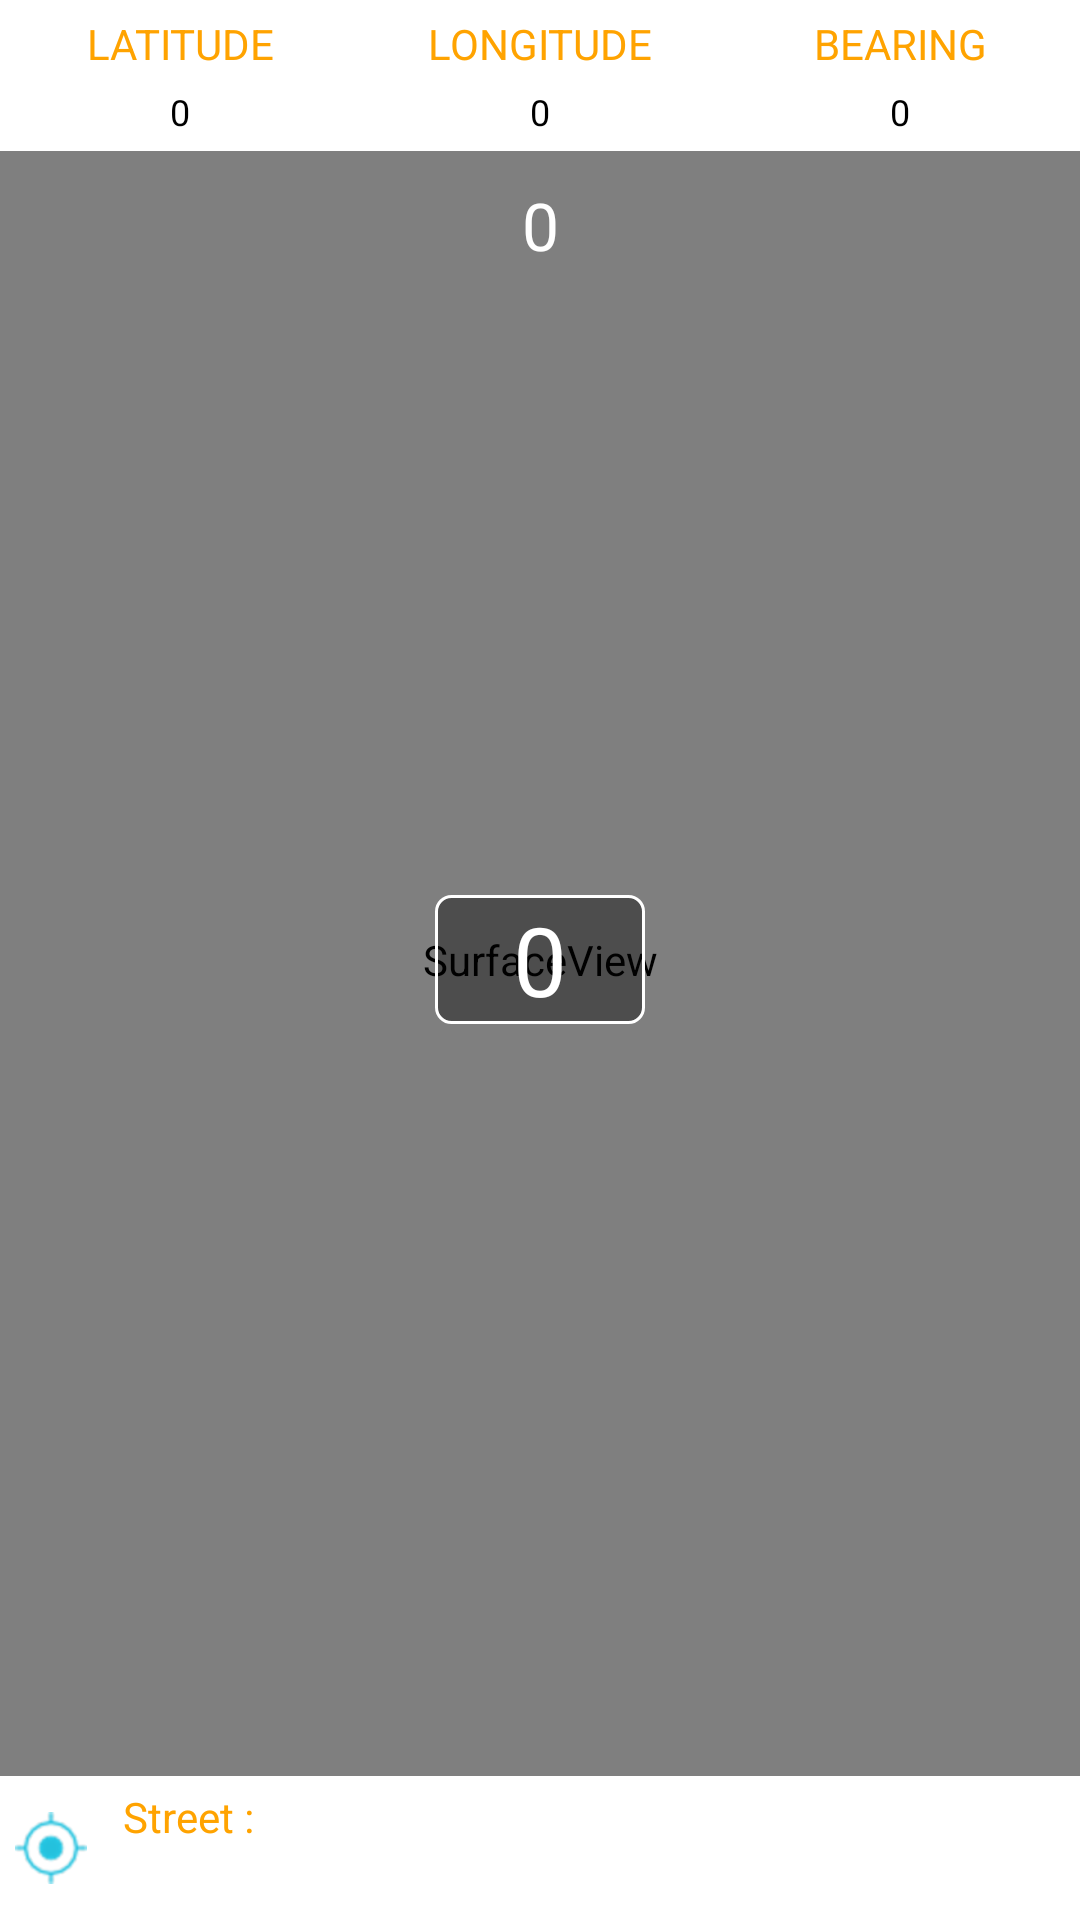

Where icons sit on this 1080w x 1920h app screen, as [x1, y1, x2, y2]:
current location: [15, 1812, 87, 1884]
